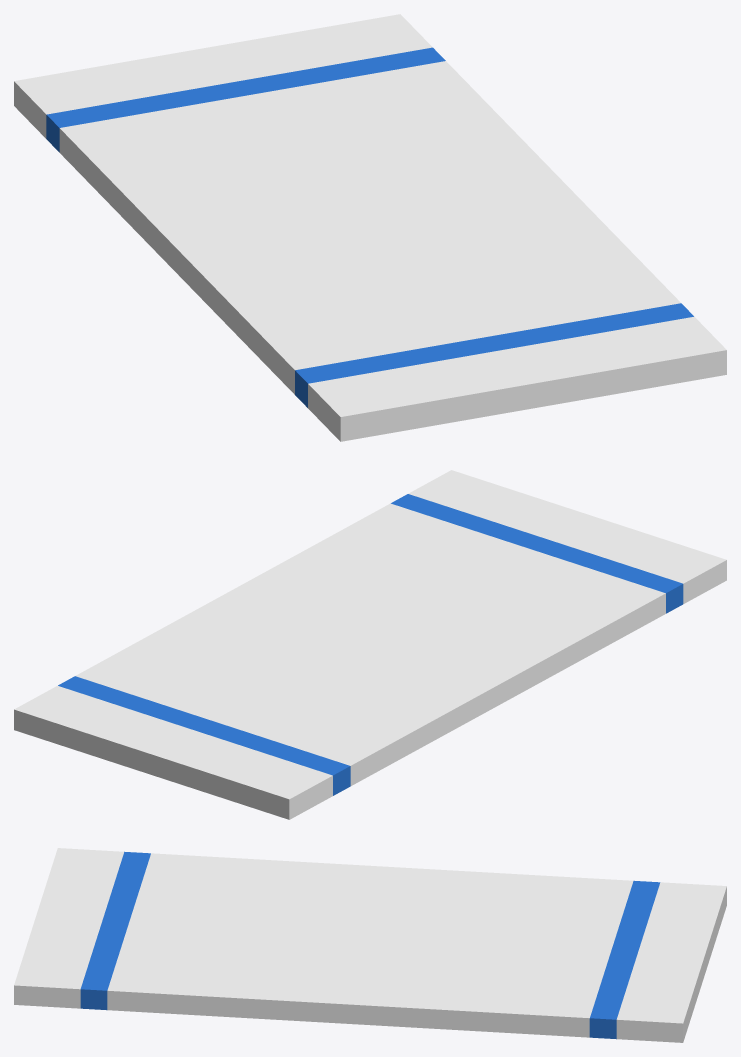
File: Towel1_tex.fbx
The picture shows the model from 3 angles, top to bottom: view 1: azimuth 30°, elevation 25°; view 2: azimuth 150°, elevation 25°; view 3: azimuth 270°, elevation 25°; orthographic projection. The views are drawn at different scales.
Visible parts, largest first — view 1: Towel1_tex; view 2: Towel1_tex; view 3: Towel1_tex.
Part boxes in pixels (box(x1,y1,x2,y2)): Towel1_tex: box(14, 14, 726, 441); Towel1_tex: box(14, 470, 726, 819); Towel1_tex: box(14, 848, 726, 1042).
Bounding box in the file's own units: 1.04 × 0.0536 × 1.78.
